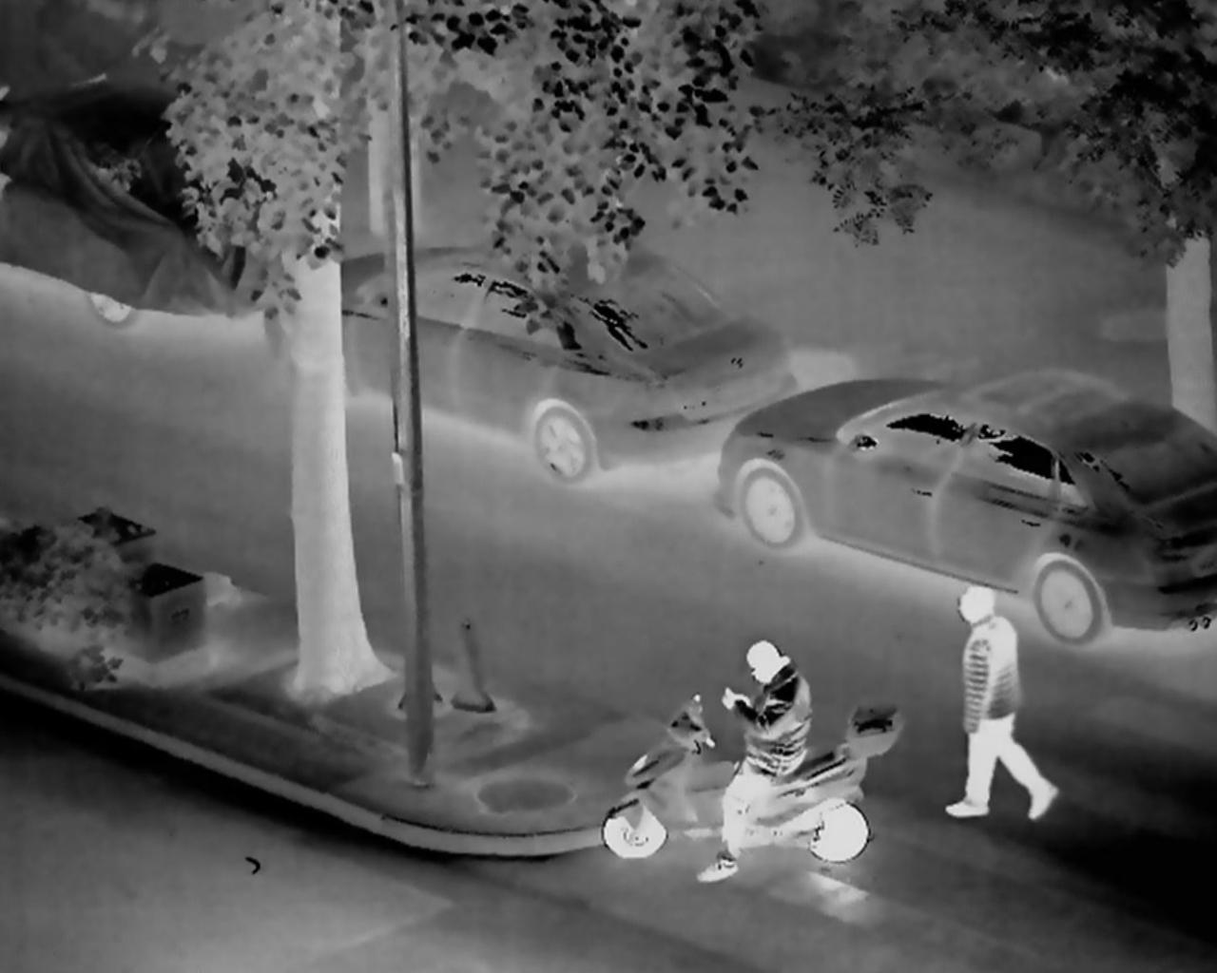person: (929, 579, 1066, 826), (704, 622, 825, 887)
